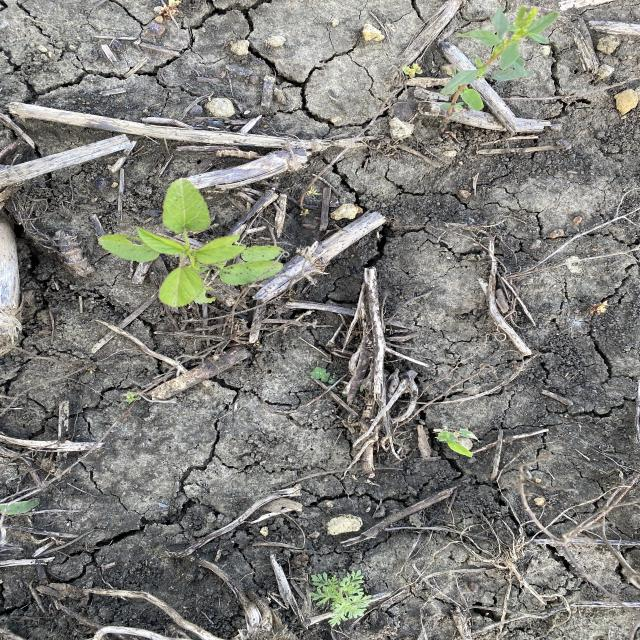PricklySida: (93, 176, 293, 312)
Ragweed: (307, 568, 374, 628)
Waterhemp: (435, 5, 562, 135)
